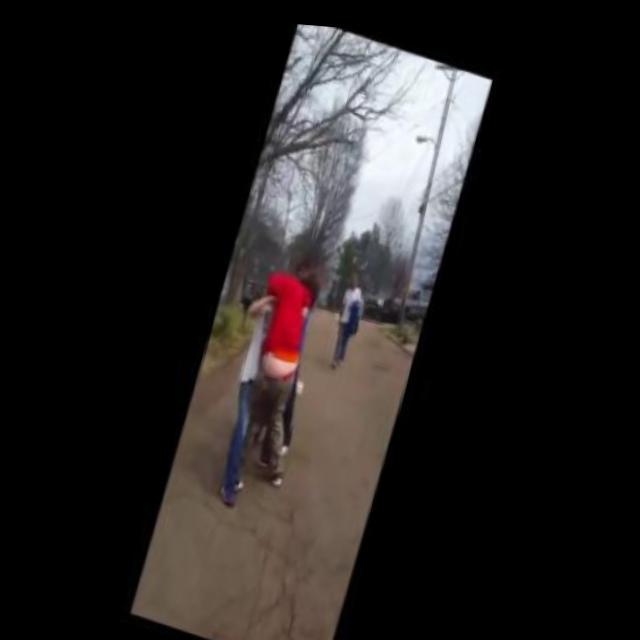fight: (202, 250, 341, 510)
